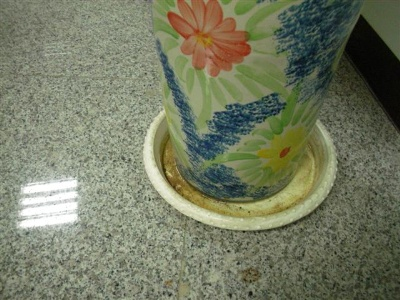plate: (142, 109, 338, 232)
